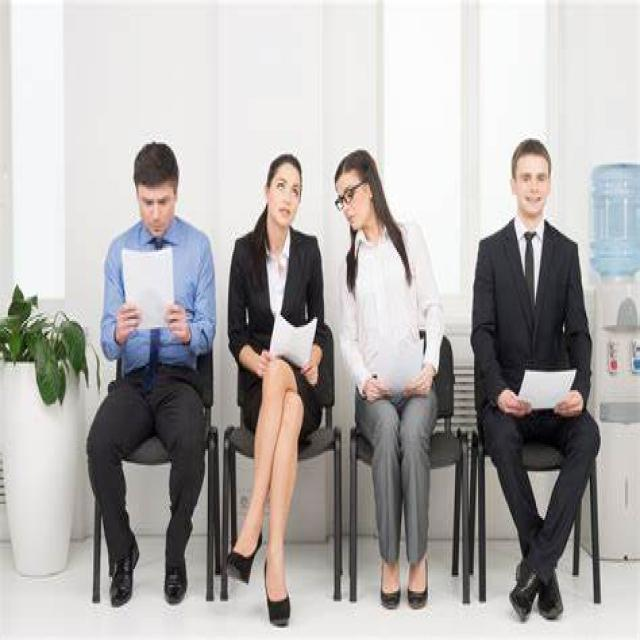sit: (82, 132, 218, 612), (477, 124, 589, 624), (318, 137, 439, 599), (219, 147, 334, 598)
